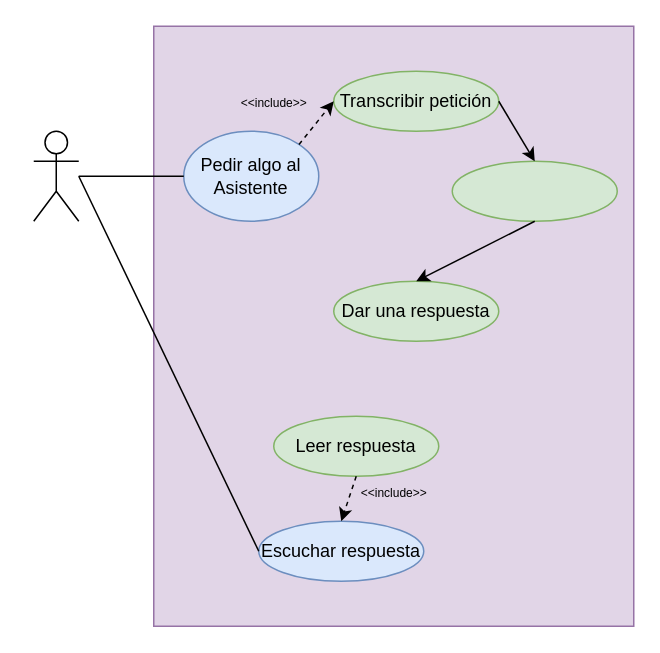
The diagram is 660 pixels wide and 653 high, and some of its shapes have lost their labels. The shapes that lost their labels are listed below. From the top down, each one's box as (x1, y1, x2, y2) in pixels, then its label:
(32, 130, 79, 221): Usuario
(451, 160, 617, 221): Interpretar pregunta
